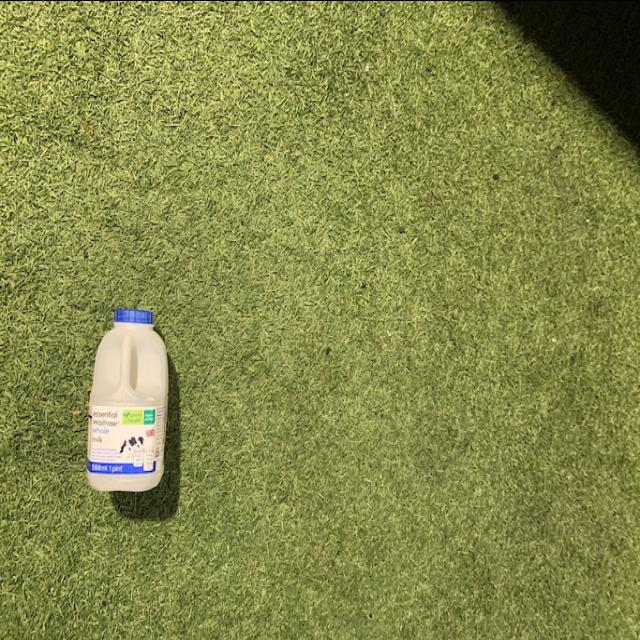HDPEM: (85, 306, 169, 492)
